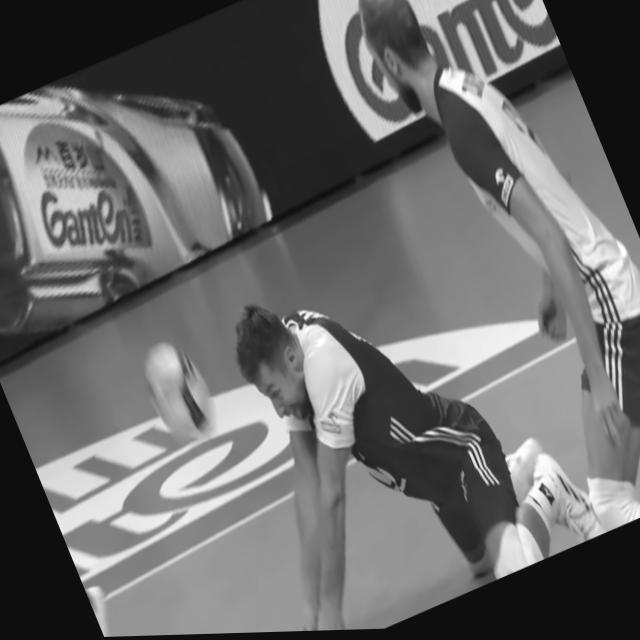player: (183, 202, 606, 636), (344, 0, 640, 555)
